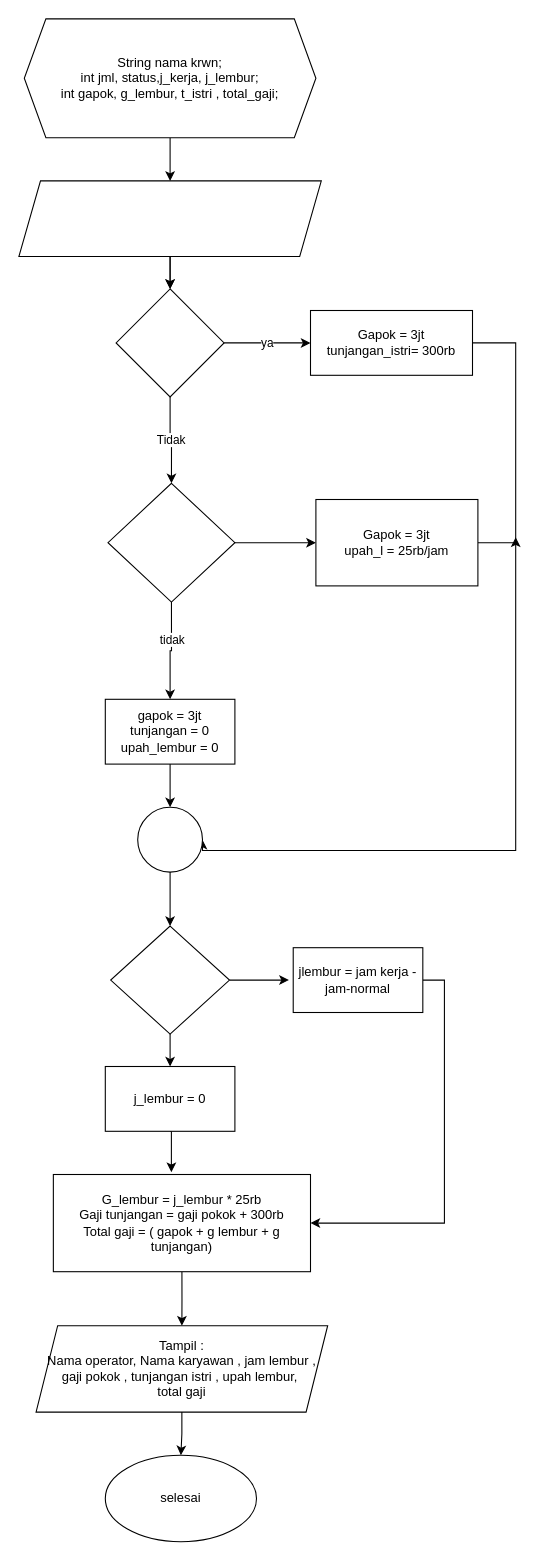
Image size: 543x1561. Some labels were removed from this diagram. Each missing label, with the centre of its shape:
j_kerja > jam_normal: point 170,979
Jumlah_Jam kerja: point 171,542
Masukan nama, Status, J_kerja: point 169,218
Status_beristri: point 169,342
